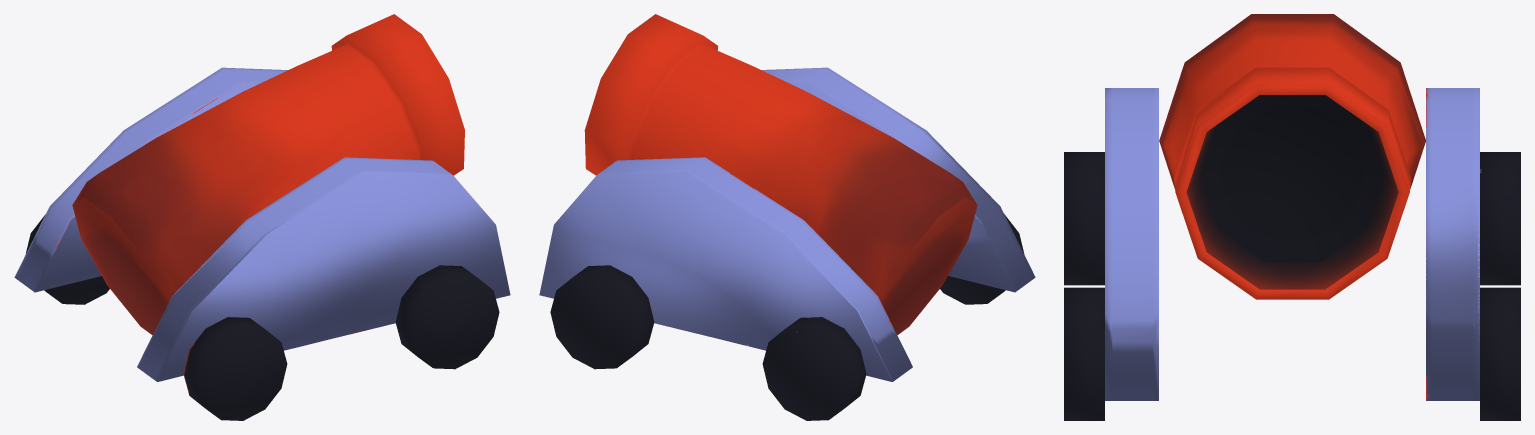
The model's file is Boom_1.gltf.
The picture shows the model from 3 angles, left to right: view 1: azimuth 30°, elevation 25°; view 2: azimuth 150°, elevation 25°; view 3: azimuth 270°, elevation 25°; orthographic projection. The views are drawn at different scales.
Parts seen in each view (by area): view 1: Cylinder.002, Cylinder; view 2: Cylinder.002, Cylinder; view 3: Cylinder, Cylinder.002.
Part boxes in pixels (x1=…): Cylinder.002: x1=14, y1=67, x2=510, y2=420; Cylinder: x1=72, y1=14, x2=464, y2=334; Cylinder.002: x1=539, y1=67, x2=1035, y2=420; Cylinder: x1=584, y1=14, x2=977, y2=334; Cylinder: x1=1159, y1=14, x2=1425, y2=299; Cylinder.002: x1=1064, y1=88, x2=1520, y2=420.
Size of the model in its own units: 4 by 2.94 by 3.42.
1 material, 1 textured.
